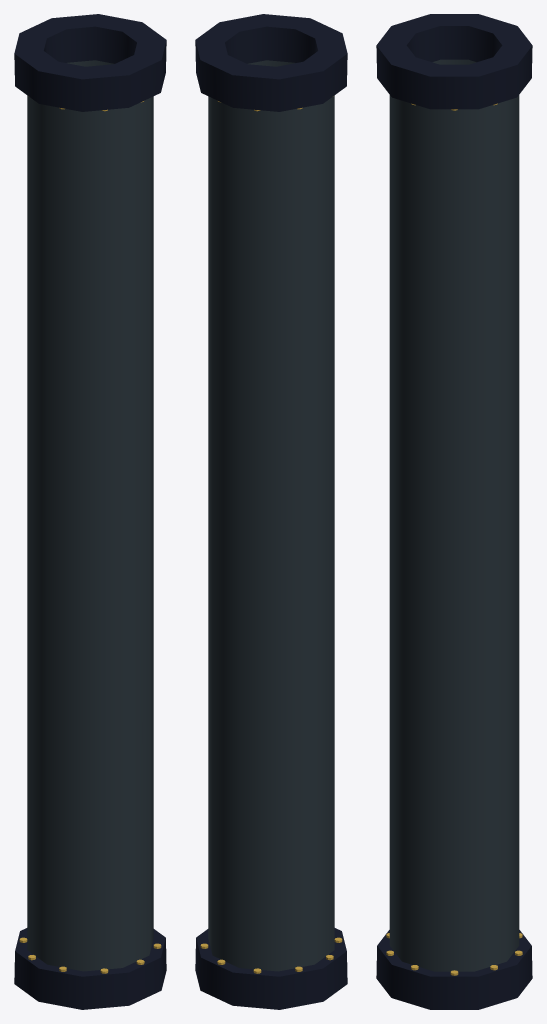
The model's file is P_Straight_03.obj.
3 renders of one model, left to right at view 1: azimuth 30°, elevation 25°; view 2: azimuth 150°, elevation 25°; view 3: azimuth 270°, elevation 25°, orthographic.
Visible parts, largest first — view 1: P_Straight_03_Rohr, P_Straight_03_Verbindung; view 2: P_Straight_03_Rohr, P_Straight_03_Verbindung; view 3: P_Straight_03_Rohr, P_Straight_03_Verbindung.
Boxes of the visible parts, left/top/right/bottom form: P_Straight_03_Rohr: left=27, top=60, right=153, bottom=971; P_Straight_03_Verbindung: left=14, top=14, right=166, bottom=1009; P_Straight_03_Rohr: left=208, top=60, right=334, bottom=971; P_Straight_03_Verbindung: left=195, top=14, right=347, bottom=1009; P_Straight_03_Rohr: left=389, top=59, right=519, bottom=971; P_Straight_03_Verbindung: left=376, top=14, right=532, bottom=1009.
Bounding box in the file's own units: 0.6204 × 4.3 × 0.6523.
